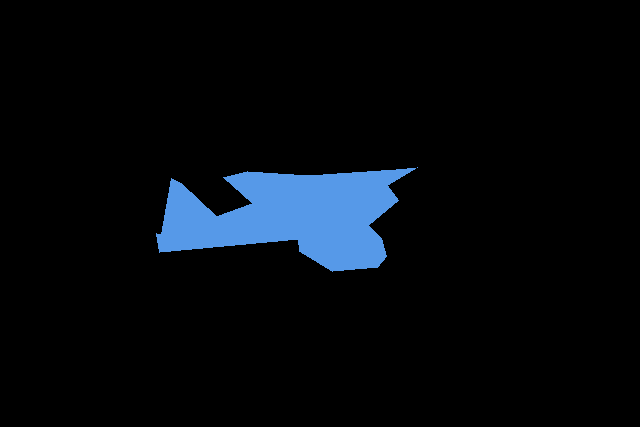Airplane: (156, 167, 417, 271)
